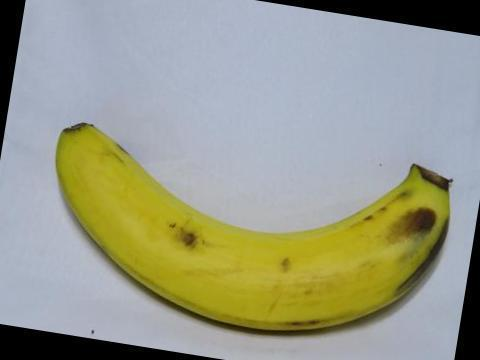freshripe: (46, 114, 464, 350)
